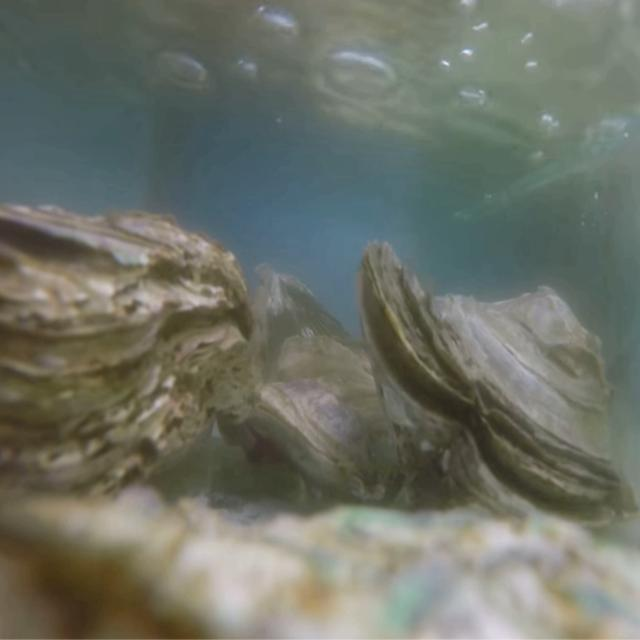Oyster-Closed: (0, 203, 256, 536), (256, 336, 419, 512)
Oyster-Indeterminate: (0, 488, 640, 640)
Oyster-Open: (356, 240, 640, 542)
